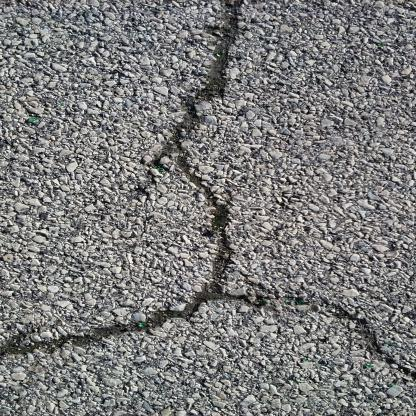Cracks: (139, 0, 416, 378), (3, 284, 225, 360)
